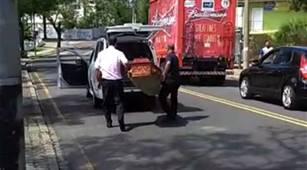Humano: (93, 32, 130, 132), (157, 39, 185, 126)
